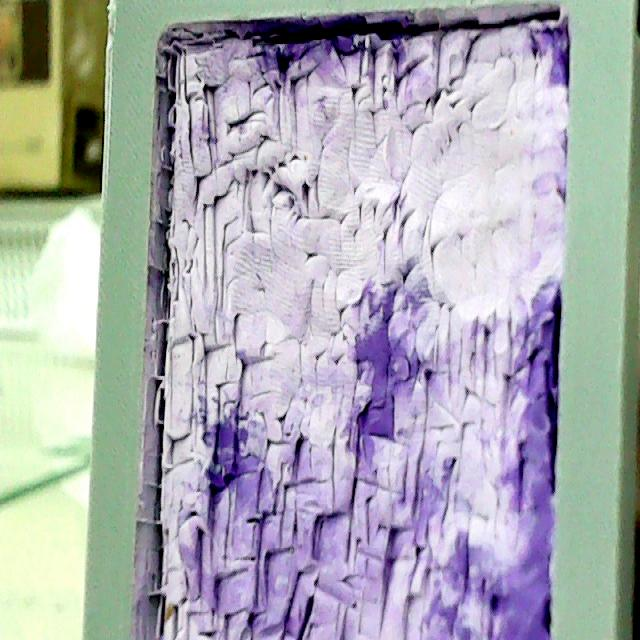block: (81, 2, 640, 631)
